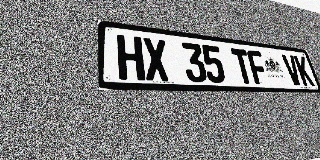3: (181, 42, 208, 83)
5: (201, 44, 227, 83)
F: (246, 50, 270, 85)
H: (116, 34, 145, 81)
K: (293, 56, 315, 86)
T: (230, 48, 255, 84)
V: (281, 54, 303, 86)
X: (142, 37, 170, 81)
